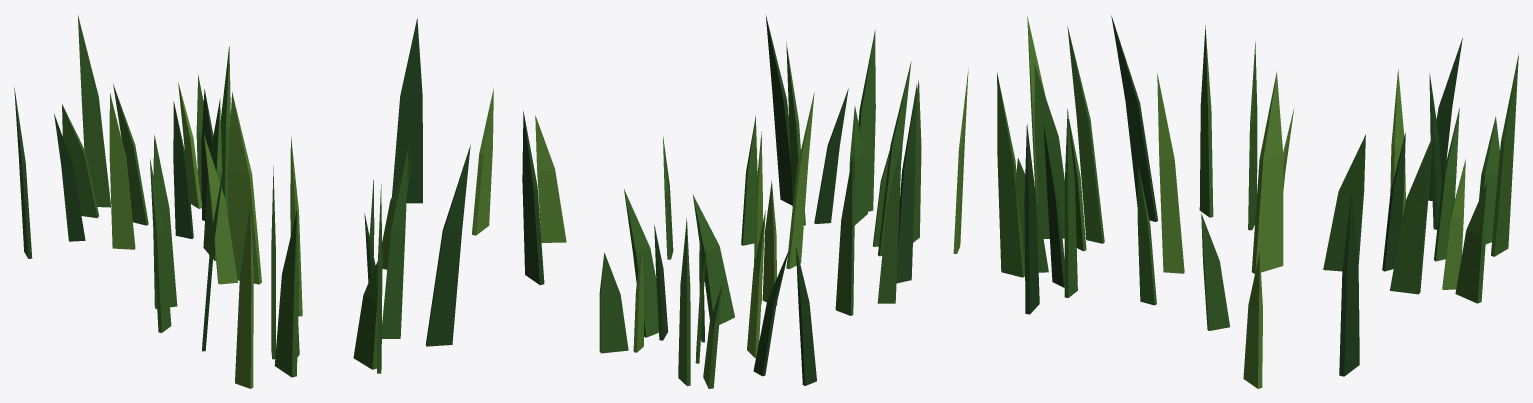
The model's file is grass_clump_e.glb.
3 views of the same model, side by side, from view 1: azimuth 30°, elevation 25°; view 2: azimuth 150°, elevation 25°; view 3: azimuth 270°, elevation 25° (orthographic). The views are drawn at different scales.
Visible parts, largest first — view 1: Grass_4.004, Grass_1.004, Grass_2.004, Grass_3.004; view 2: Grass_1.004, Grass_3.004, Grass_2.004, Grass_4.004; view 3: Grass_2.004, Grass_3.004, Grass_1.004, Grass_4.004.
Boxes of the visible parts, x1,y1,x2,y2 form: Grass_4.004: (109,81,493,388); Grass_1.004: (14,18,470,351); Grass_2.004: (113,84,412,377); Grass_3.004: (62,14,382,373); Grass_1.004: (522,14,916,385); Grass_3.004: (599,30,901,388); Grass_2.004: (663,42,921,363); Grass_4.004: (535,68,968,358); Grass_2.004: (1034,25,1459,330); Grass_3.004: (997,25,1518,303); Grass_1.004: (1024,15,1462,376); Grass_4.004: (1027,16,1465,388).
Size of the model in its own units: 1.36 by 0.6885 by 1.55.
